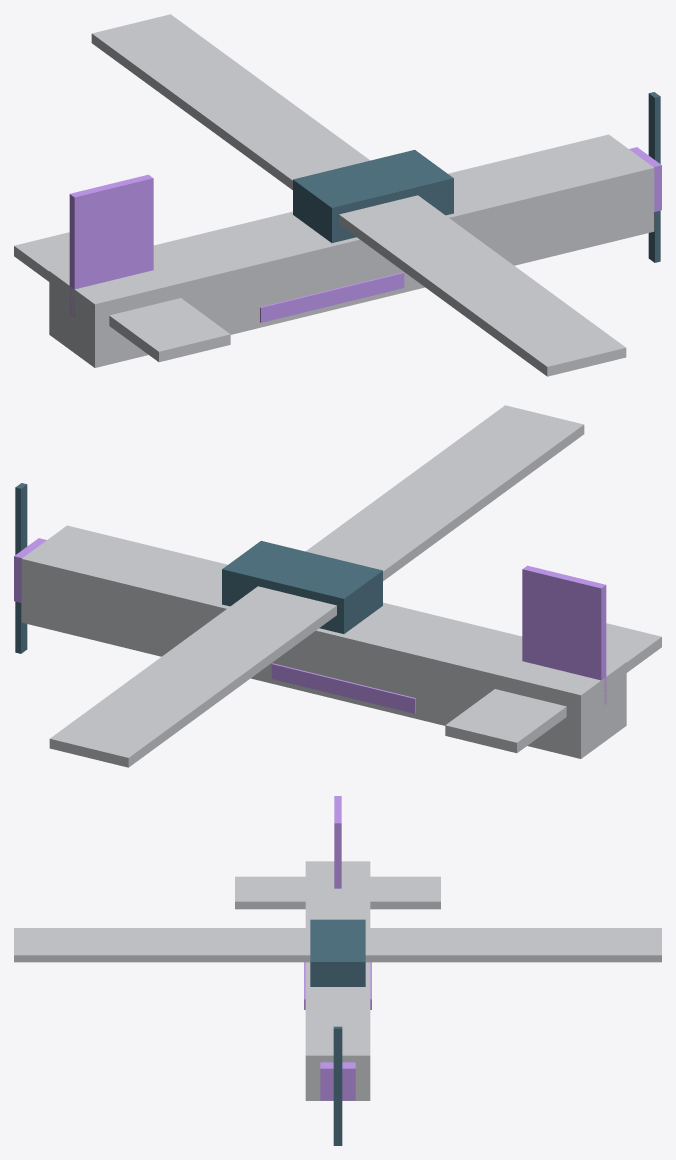
Rendered from aircraft.gltf.
3 views of the same model, one above another, from view 1: azimuth 30°, elevation 25°; view 2: azimuth 150°, elevation 25°; view 3: azimuth 270°, elevation 25° (orthographic). The views are drawn at different scales.
Bounding box in the file's own units: 8.16 × 2.75 × 11.
